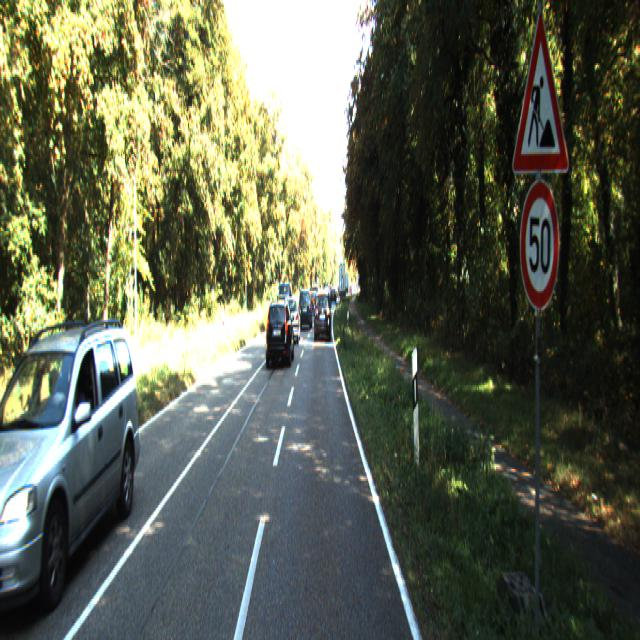Car: (0, 321, 146, 611), (266, 294, 294, 366), (314, 286, 331, 337), (283, 292, 301, 340), (299, 284, 312, 325)
